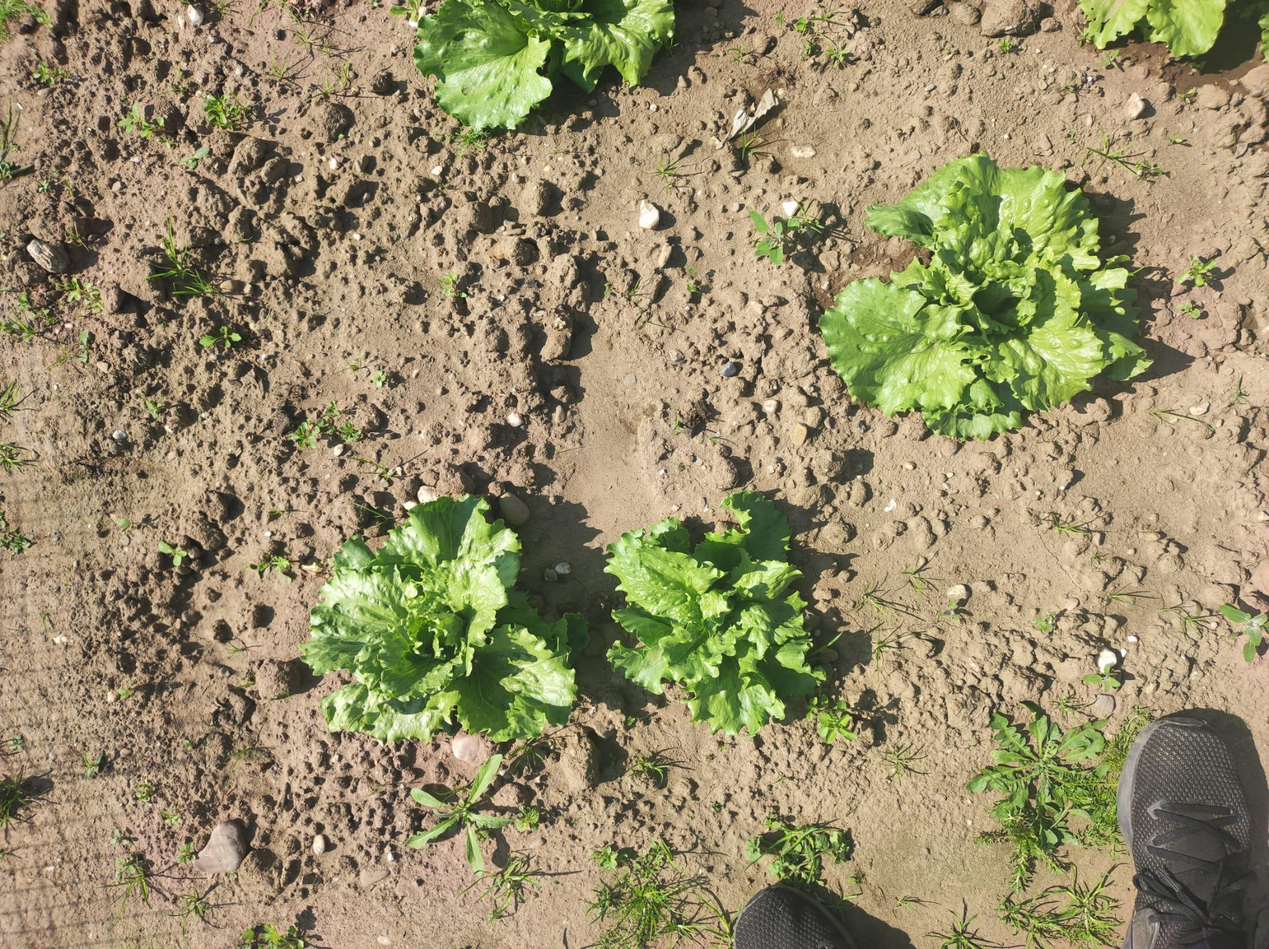Healthy: (821, 152, 1153, 438), (301, 494, 586, 742), (607, 491, 825, 736), (413, 0, 675, 129), (1081, 0, 1228, 55)
